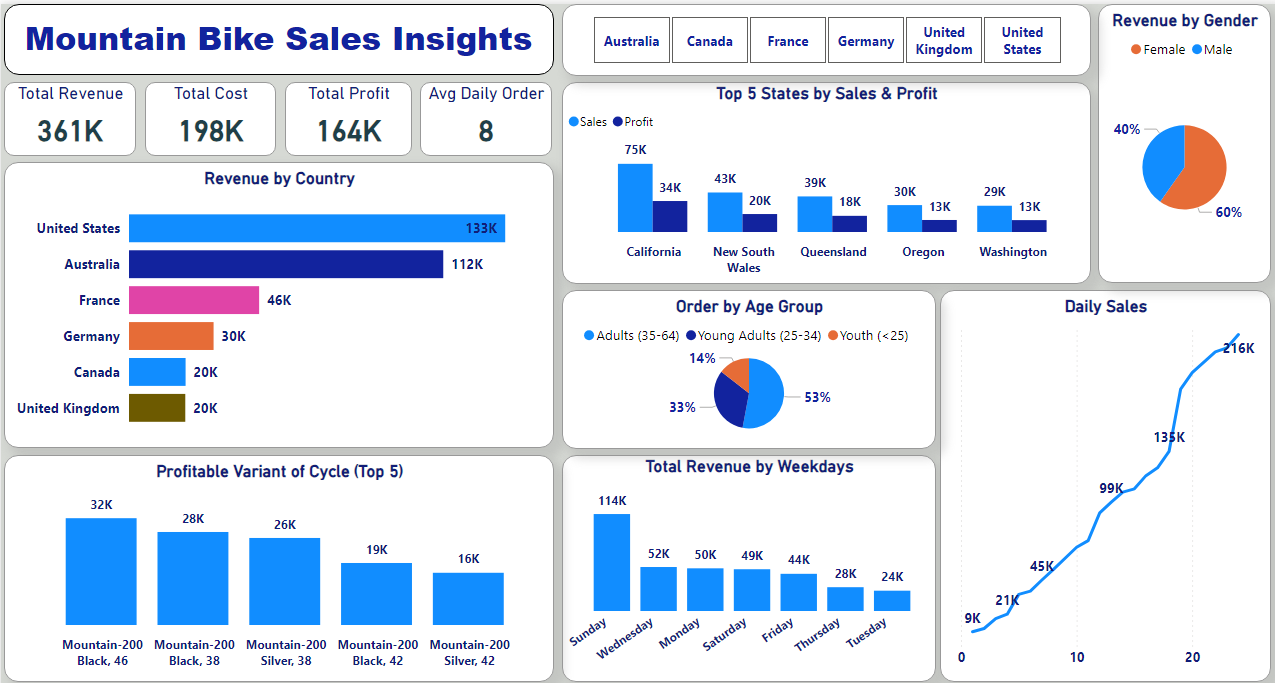

Layout of this report page (visuals, bound fields, positions):
{"tool":"powerbi","page":{"name":"Page 1","canvas":[1280,720],"ordinal":0},"visuals":[{"type":"card","title":"Total Profit","fields":{"Values":["Sum(Cost. Profit )"]},"box":[290.2,86.2,127,73.7],"z":0},{"type":"card","title":"Total Revenue","fields":{"Values":["Sum(Cost.Total Revenue)"]},"box":[9.1,86.2,131.5,73.7],"z":1000},{"type":"card","title":"Total Cost","fields":{"Values":["Sum(Cost.Total Cost)"]},"box":[149.7,86.2,131.5,73.7],"z":2000},{"type":"card","title":"Avg Daily Order","fields":{"Values":["Cost.Avg order"]},"box":[425.2,86.2,131.5,73.7],"z":3000},{"type":"clusteredBarChart","title":"Revenue by Country","fields":{"Y":["Sum(Cost.Total Revenue)"],"Category":["Cost.Country"]},"box":[9.1,165.5,549.9,286.8],"z":4000},{"type":"clusteredColumnChart","title":"Top 5 States by Sales & Profit","fields":{"Category":["Cost.State"],"Y":["Sum(Cost.Total Revenue)","Sum(Cost. Profit )"]},"box":[566.9,86.2,512.5,201.8],"z":5000},{"type":"clusteredColumnChart","title":"Total Revenue by Weekdays","fields":{"Category":["Cost.Days"],"Y":["Sum(Cost.Total Revenue)"]},"box":[567,518.6,373.5,193.5],"z":6000},{"type":"lineChart","title":"Daily Sales","fields":{"Category":["Cost.Day"],"Y":["Cost.Rt"]},"box":[945,293.6,330.8,418.5],"z":7000},{"type":"pieChart","title":"Revenue by Gender","fields":{"Y":["Sum(Cost.Total Revenue)"],"Category":["Cost.Customer_Gender"]},"box":[1083.2,7.9,192.7,278.9],"z":8000},{"type":"pieChart","title":"Order by Age Group","fields":{"Y":["Sum(Cost.Order_Quantity)"],"Category":["Cost.Age_Group"]},"box":[566.9,293.6,374.1,219.9],"z":9000},{"type":"clusteredColumnChart","title":"Profitable Variant of Cycle (Top 5)","fields":{"Category":["Cost.Product_Description"],"Y":["Sum(Cost. Profit )"]},"box":[9,460.1,550.1,252],"z":10000},{"type":"slicer","fields":{"Values":["Cost.Country"]},"box":[566.9,7.9,512.5,72.6],"z":11000},{"type":"textbox","box":[9.1,7.9,549.9,71.4],"z":12000}]}

Visuals, with their boxes on the page's 1280x720 design canvas (x1, y1, x2, y2). These are canvas units, not pixel positions in the 1275x683 screenshot, which may show the page scaled, cropped or inside an application window:
"Total Profit" card: left=290, top=86, right=417, bottom=160
"Total Revenue" card: left=9, top=86, right=141, bottom=160
"Total Cost" card: left=150, top=86, right=281, bottom=160
"Avg Daily Order" card: left=425, top=86, right=557, bottom=160
"Revenue by Country" clusteredBarChart: left=9, top=166, right=559, bottom=452
"Top 5 States by Sales & Profit" clusteredColumnChart: left=567, top=86, right=1079, bottom=288
"Total Revenue by Weekdays" clusteredColumnChart: left=567, top=519, right=940, bottom=712
"Daily Sales" lineChart: left=945, top=294, right=1276, bottom=712
"Revenue by Gender" pieChart: left=1083, top=8, right=1276, bottom=287
"Order by Age Group" pieChart: left=567, top=294, right=941, bottom=514
"Profitable Variant of Cycle (Top 5)" clusteredColumnChart: left=9, top=460, right=559, bottom=712
slicer - Cost.Country: left=567, top=8, right=1079, bottom=80
textbox: left=9, top=8, right=559, bottom=79
